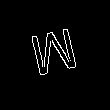M_S: (27, 25, 83, 85)
